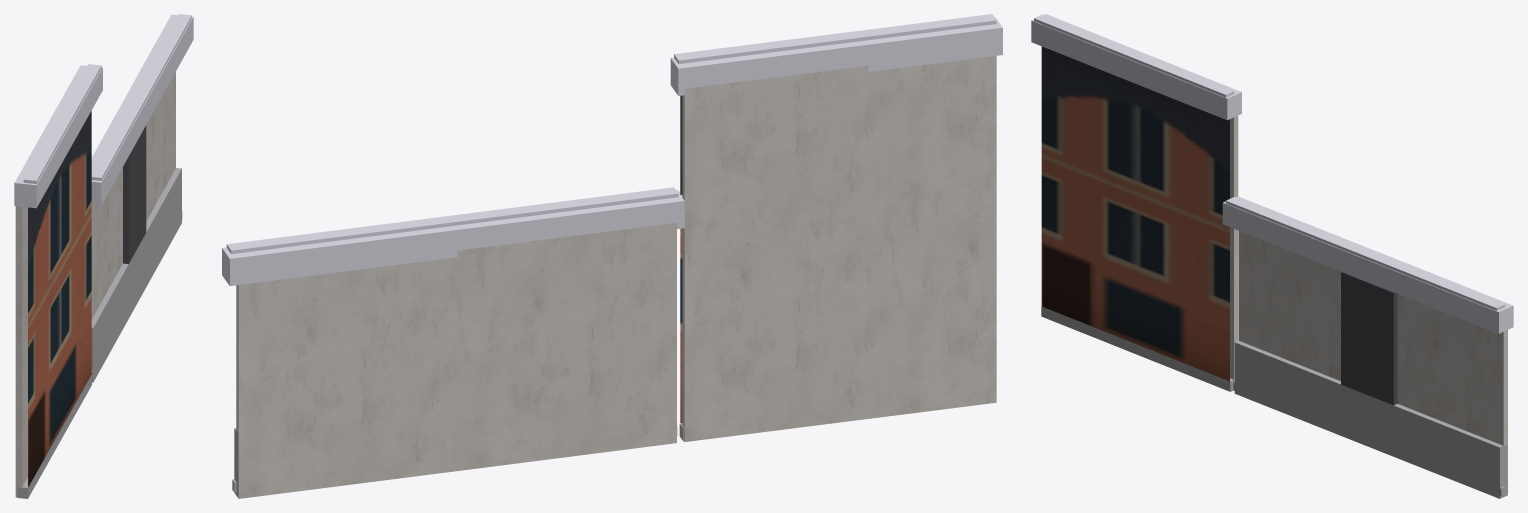
3 views of the same model, side by side, from view 1: azimuth 30°, elevation 25°; view 2: azimuth 150°, elevation 25°; view 3: azimuth 270°, elevation 25° (orthographic). The views are drawn at different scales.
Parts seen in each view (by area): view 1: bldg_6006775761_facade2, bldg_6006775761_facade5; view 2: bldg_6006775761_facade2, bldg_6006775761_facade5; view 3: bldg_6006775761_facade2, bldg_6006775761_facade5.
Part boxes in pixels (x1,y1,x2,y2): bldg_6006775761_facade2: (14, 64, 102, 498); bldg_6006775761_facade5: (91, 14, 193, 382); bldg_6006775761_facade2: (670, 14, 1002, 441); bldg_6006775761_facade5: (222, 187, 684, 498); bldg_6006775761_facade2: (1031, 14, 1241, 391); bldg_6006775761_facade5: (1222, 196, 1513, 498).
Size of the model in its own units: 7.24 by 5.26 by 7.66.
5 materials, 2 textured.
